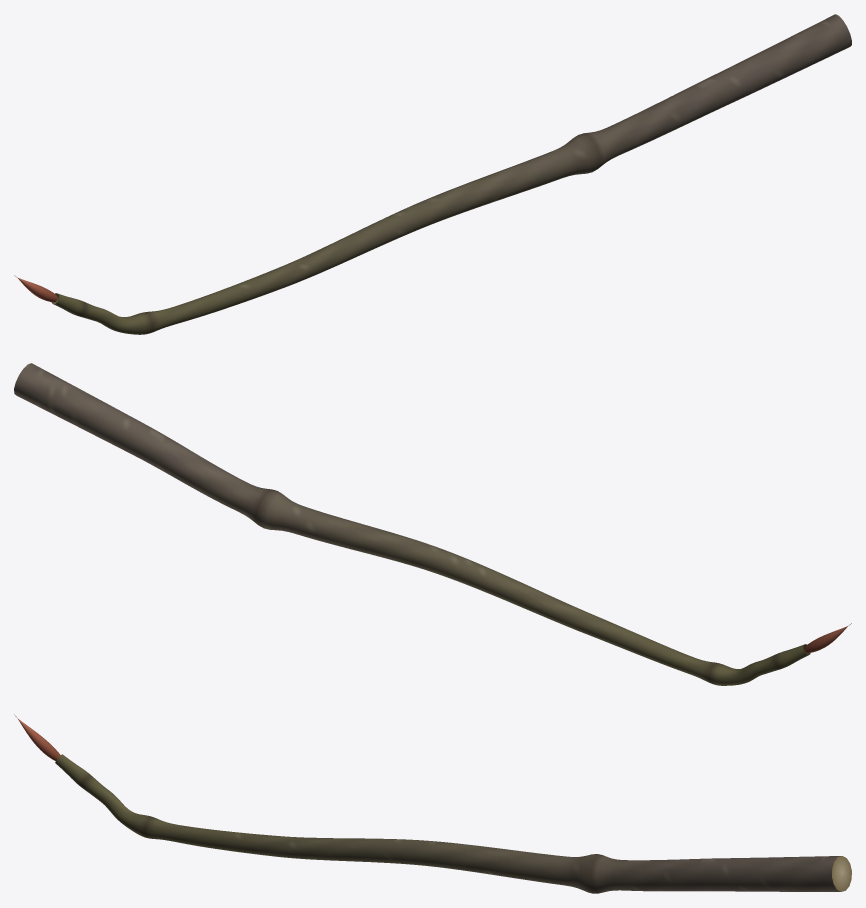
The model's file is twig.glb.
3 views of the same model, one above another, from view 1: azimuth 30°, elevation 25°; view 2: azimuth 150°, elevation 25°; view 3: azimuth 330°, elevation 25° (orthographic).
Parts seen in each view (by area): view 1: twig; view 2: twig; view 3: twig.
Boxes of the visible parts, box(x1,y1,x2,y2) form: twig: box(14, 14, 851, 334); twig: box(14, 363, 851, 685); twig: box(14, 714, 851, 893).
Size of the model in its own units: 2.81 by 0.4836 by 0.1388.
